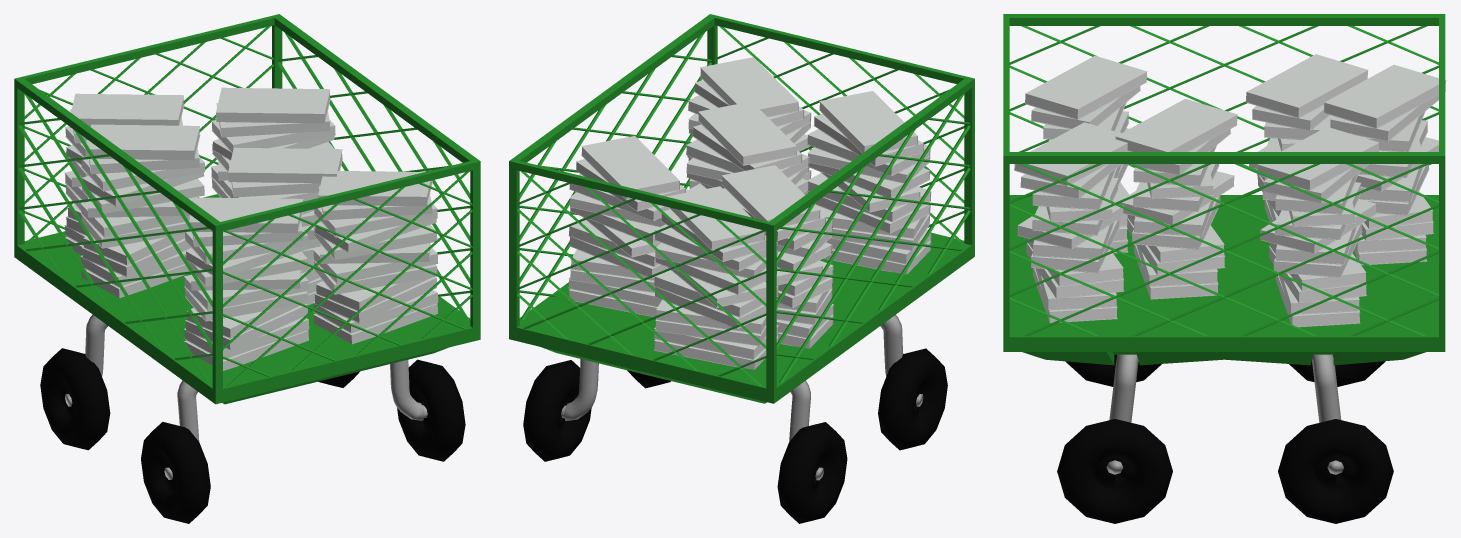
File: CarroTXT.fbx
The picture shows the model from 3 angles, left to right: view 1: azimuth 30°, elevation 25°; view 2: azimuth 150°, elevation 25°; view 3: azimuth 270°, elevation 25°; orthographic projection. The views are drawn at different scales.
Visible parts, largest first — view 1: Plane.004, Cube, Plane.001, Plane.002, Torus.003, Torus.002, Torus, Plane, Plane.003, Cylinder.002, Cylinder.001; view 2: Plane.004, Cube, Plane.001, Plane.003, Torus.002, Torus.003, Torus.001, Plane, Plane.002, Cylinder.001, Cylinder.002; view 3: Plane.004, Cube, Plane, Torus.001, Torus, Plane.001, Cylinder.001, Cylinder.002, Torus.003, Torus.002.
Boxes of the visible parts, x1,y1,x2,y2 form: Plane.004: (64,87,438,370); Cube: (14,14,480,404); Plane.001: (18,93,212,383); Plane.002: (223,171,472,387); Torus.003: (141,422,210,523); Torus.002: (40,348,110,450); Torus: (397,359,465,461); Plane: (277,32,470,320); Plane.003: (24,26,273,241); Cylinder.002: (164,360,427,479); Cylinder.001: (65,314,107,406); Plane.004: (568,57,931,369); Cube: (509,14,974,403); Plane.001: (776,93,970,382); Plane.003: (517,171,766,386); Torus.002: (777,422,847,523); Torus.003: (878,348,947,450); Torus.001: (523,360,591,461); Plane: (519,32,711,319); Plane.002: (715,26,964,241); Cylinder.001: (561,359,823,480); Cylinder.002: (880,315,923,406); Plane.004: (1014,54,1446,327); Cube: (1003,14,1445,365); Plane: (1009,164,1438,336); Torus.001: (1278,419,1393,523); Torus: (1057,419,1172,523); Plane.001: (1009,26,1438,197); Cylinder.001: (1312,354,1343,474); Cylinder.002: (1106,354,1138,474); Torus.003: (1065,354,1161,386); Torus.002: (1289,355,1385,386).
Size of the model in its own units: 115 by 129 by 141.
